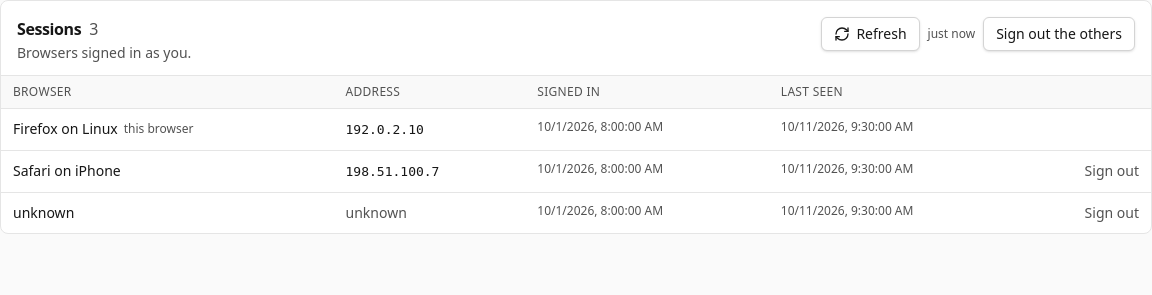
Scenario: SessionsCard › shows what the server said when a sign out is refused
The width and height of the screenshot is (1152, 295).
Step 1. Click the button "Sign out" in the row of "Safari on iPhone" → (1112, 171), box 1085,161 -> 1139,181
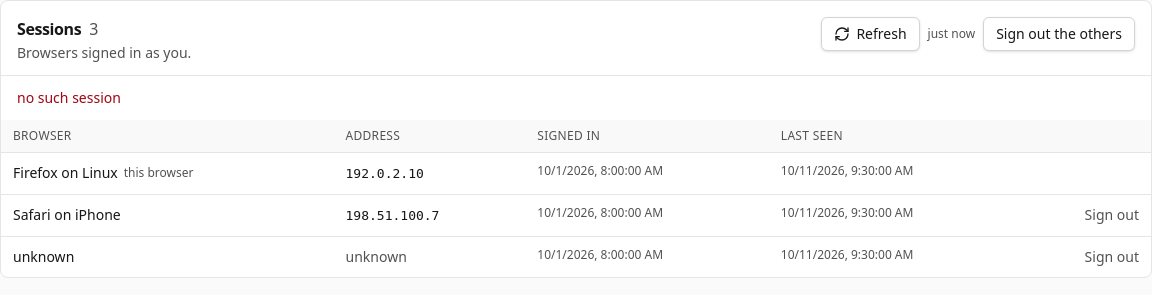
expect the message "no such session" is shown: met, box 17,88 -> 121,107
